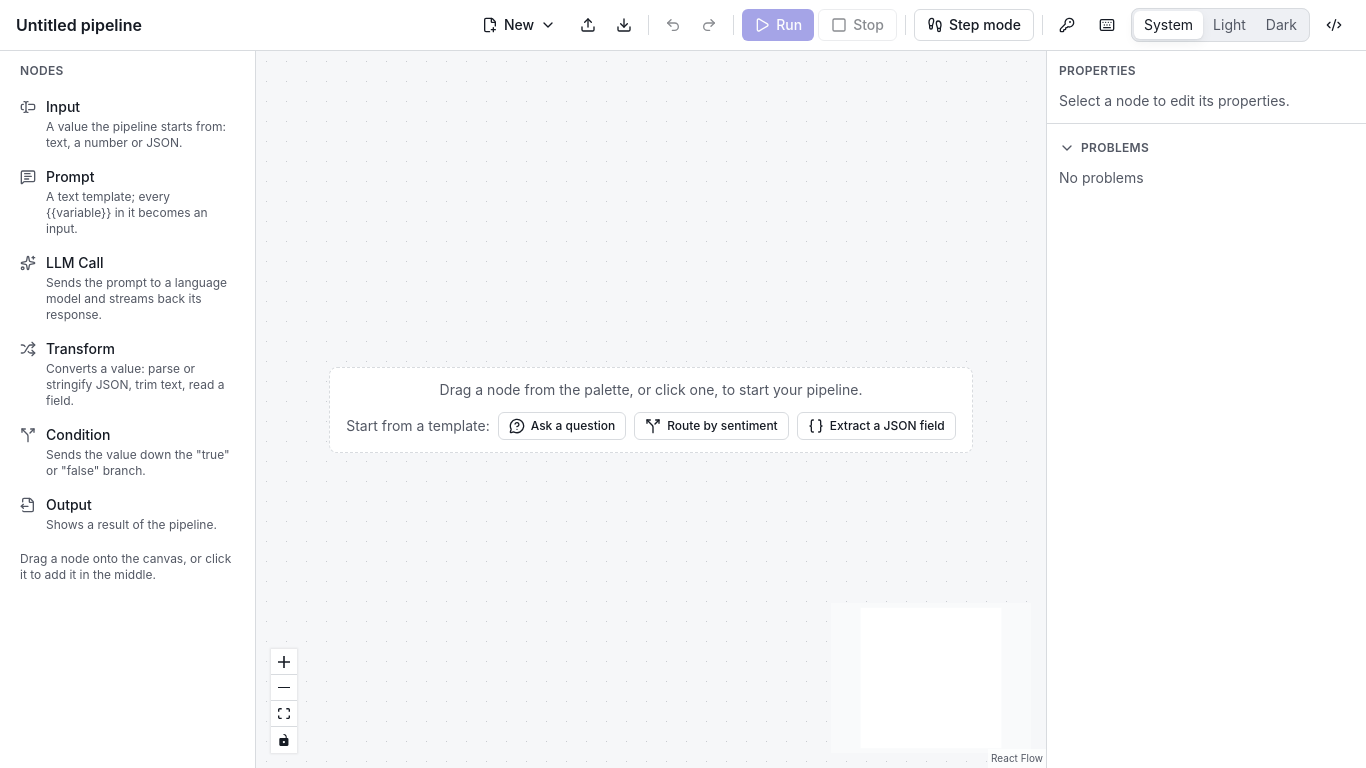
Test: EditorPage › shows the properties of a node it adds
Check: the text "Select a node to edit its properties." is shown, box [1059, 92, 1290, 109]
Click the button with aria-label "Add Prompt" at (128, 202), box [12, 161, 243, 243]
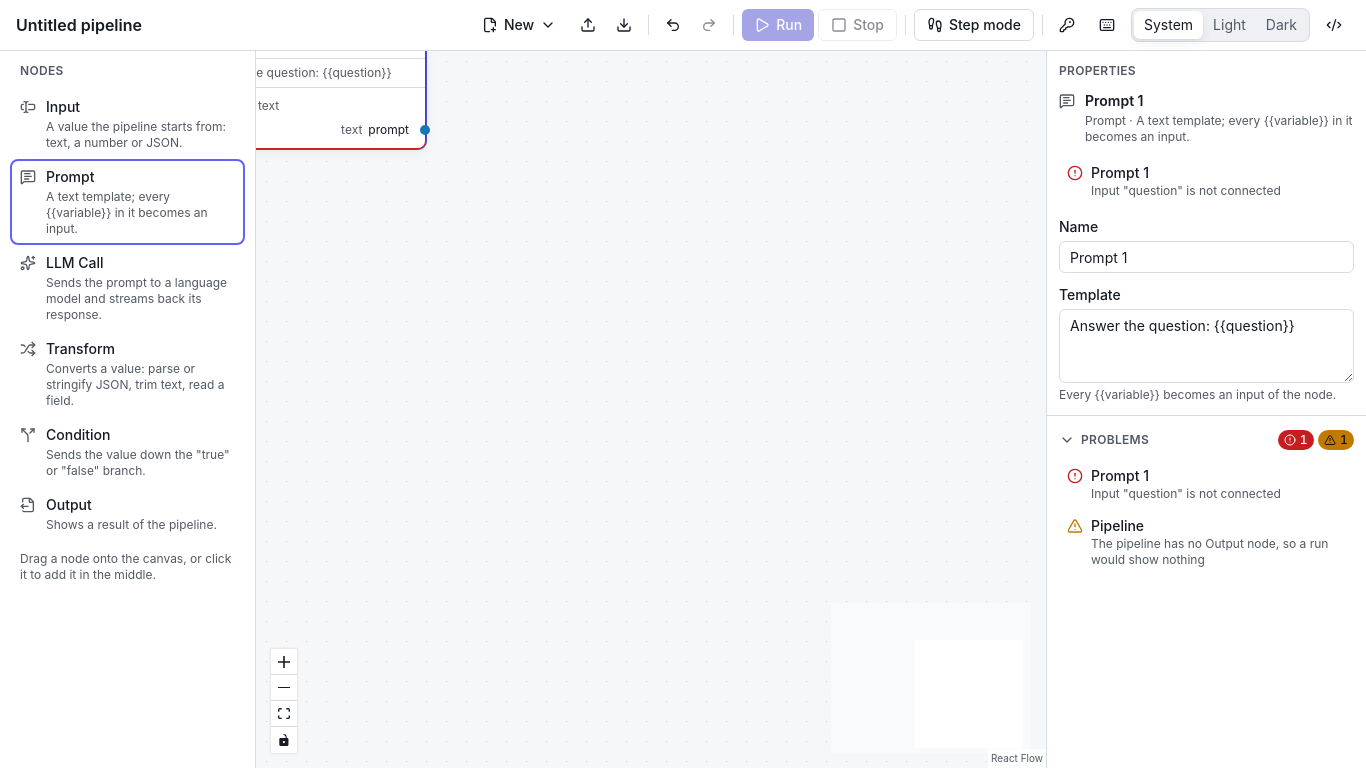
Check: the field labelled "Name" holds "Prompt 1", box [1059, 241, 1354, 273]
Check: the text box labelled "Template" is shown, box [1059, 309, 1354, 383]
